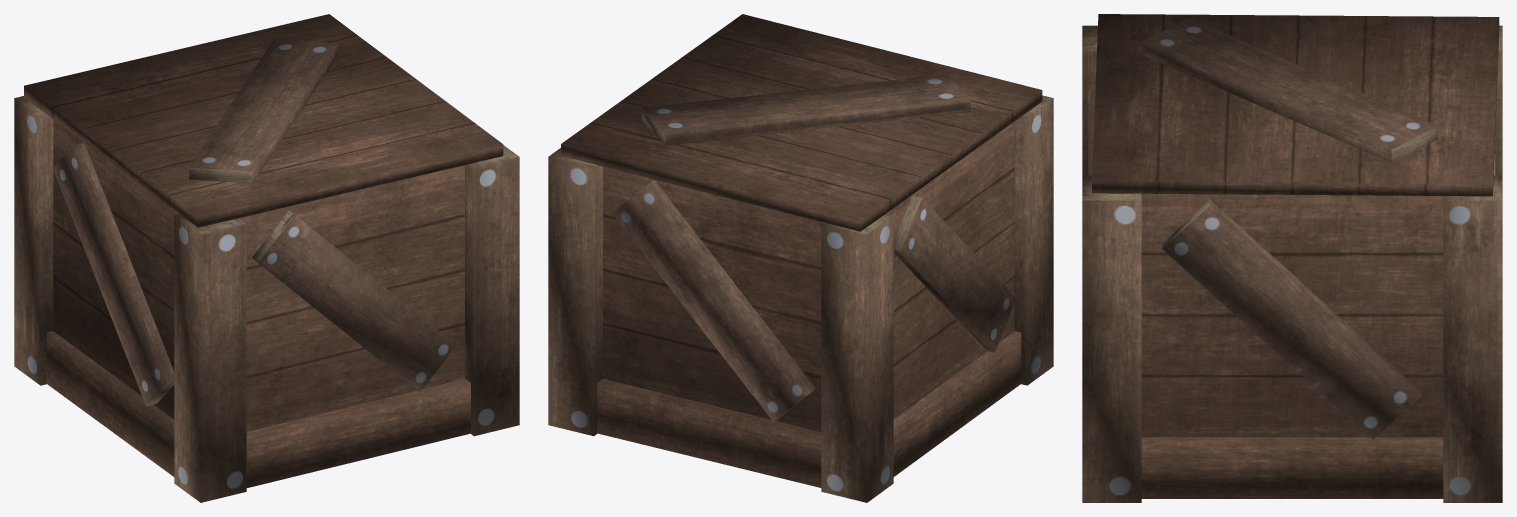
The model's file is Wooden box 3,1.fbx.
3 renders of one model, left to right at view 1: azimuth 30°, elevation 25°; view 2: azimuth 150°, elevation 25°; view 3: azimuth 270°, elevation 25°, orthographic. The views are drawn at different scales.
Parts seen in each view (by area): view 1: Wooden_box007_LOD0; view 2: Wooden_box007_LOD0; view 3: Wooden_box007_LOD0.
Part boxes in pixels (x1,y1,x2,y2): Wooden_box007_LOD0: (14, 14, 519, 502); Wooden_box007_LOD0: (548, 14, 1053, 502); Wooden_box007_LOD0: (1082, 14, 1502, 502).
Size of what is drawn, in the model's own units: 38.78 by 33.98 by 39.3.
